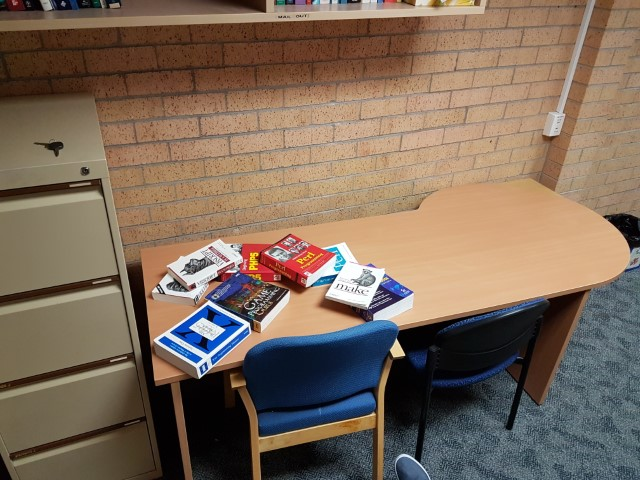key: (47, 141, 64, 158)
